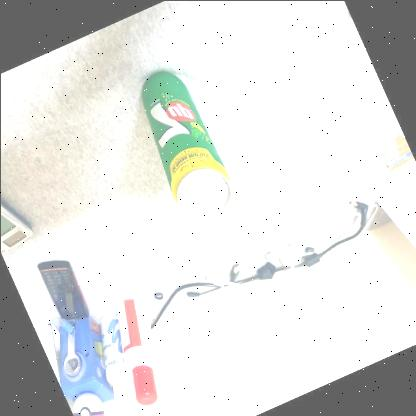Can: (142, 70, 232, 220)
